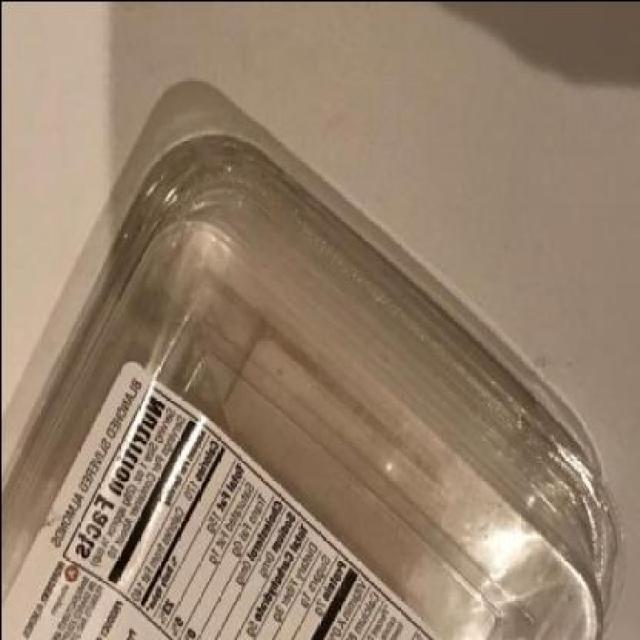PLASTIC: (1, 128, 622, 640)
